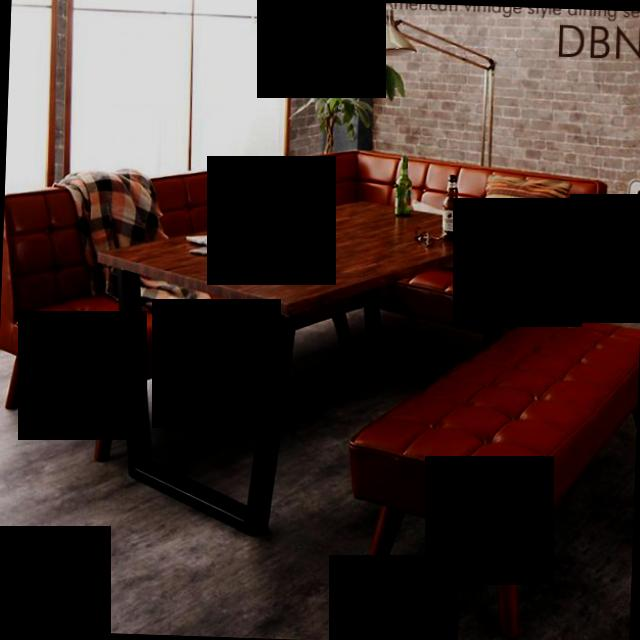vintage chair: (335, 303, 640, 634)
vintage desk: (97, 189, 534, 532)
vintage sofa: (0, 133, 609, 458)
